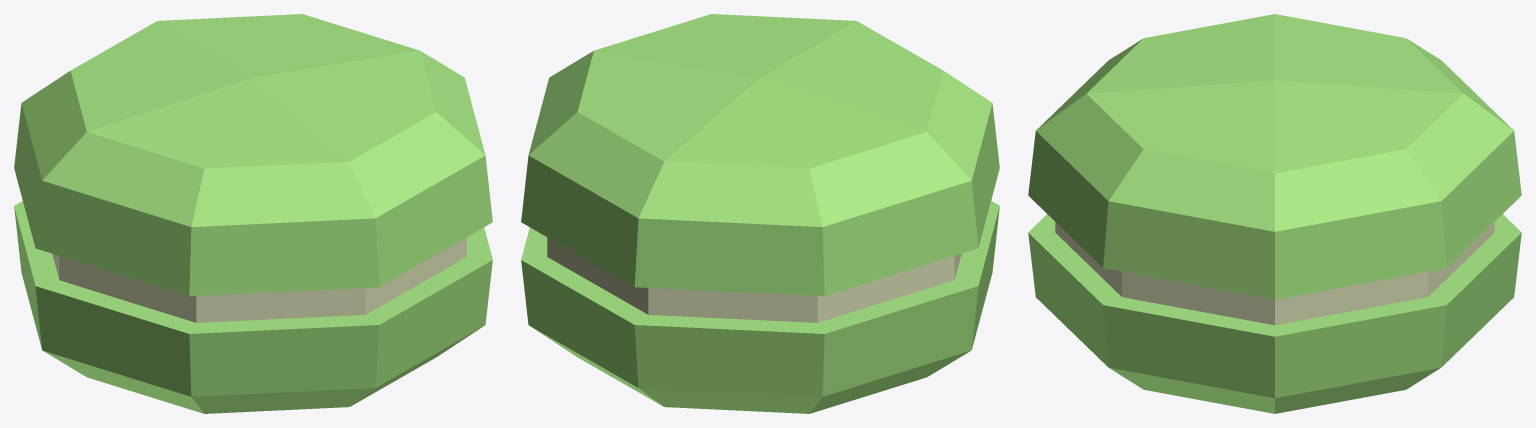
File: macaron_gr.fbx
3 views of the same model, side by side, from view 1: azimuth 30°, elevation 25°; view 2: azimuth 150°, elevation 25°; view 3: azimuth 270°, elevation 25° (orthographic).
Parts seen in each view (by area): view 1: macaron_gn; view 2: macaron_gn; view 3: macaron_gn.
Boxes of the visible parts, x1=… form: macaron_gn: x1=14, y1=14, x2=492, y2=413; macaron_gn: x1=521, y1=14, x2=999, y2=413; macaron_gn: x1=1028, y1=14, x2=1521, y2=413.
Bounding box in the file's own units: 92.32 × 55.18 × 92.32.
